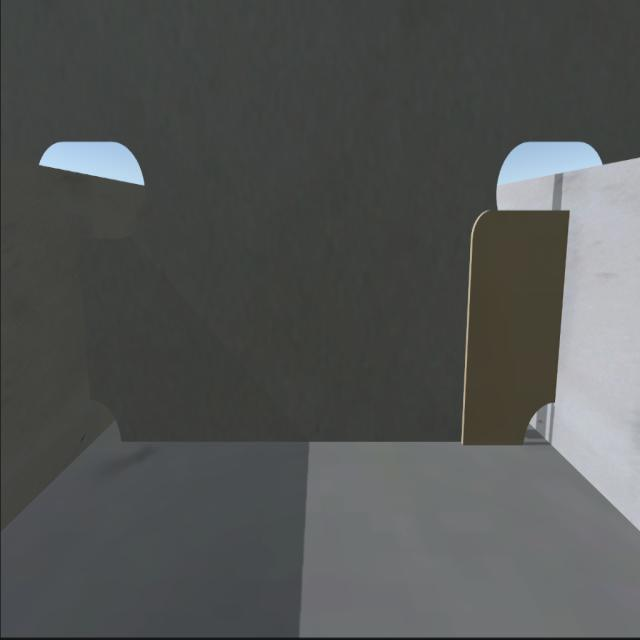fillet_hole: (90, 398, 124, 442), (522, 401, 552, 442)
fillet_yong_jeop_jang: (126, 431, 525, 448)
longi_yong_jeop_jang: (556, 212, 570, 399), (79, 246, 92, 399)
plate_CP05: (467, 212, 562, 444)
